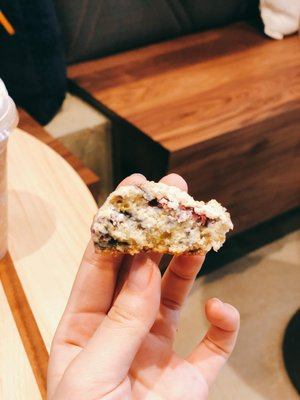sandwich: (91, 174, 233, 257)
